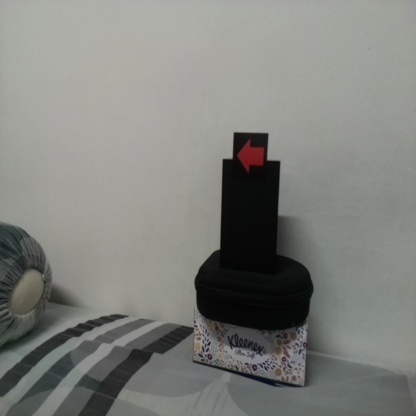id_4: (233, 132, 268, 181)
